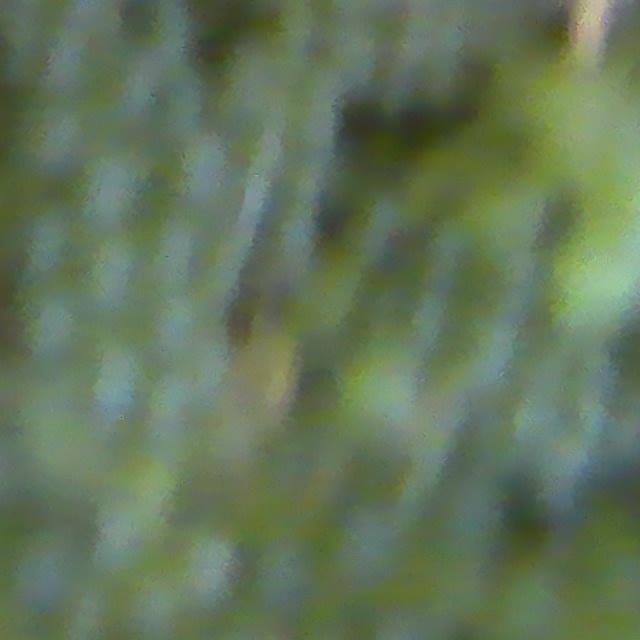SeaGrape: (329, 342, 434, 458), (163, 518, 250, 614), (2, 521, 91, 614), (89, 494, 173, 580), (76, 142, 154, 225), (15, 100, 93, 181), (20, 288, 89, 362), (84, 232, 149, 308), (87, 341, 152, 416), (15, 202, 80, 274)
